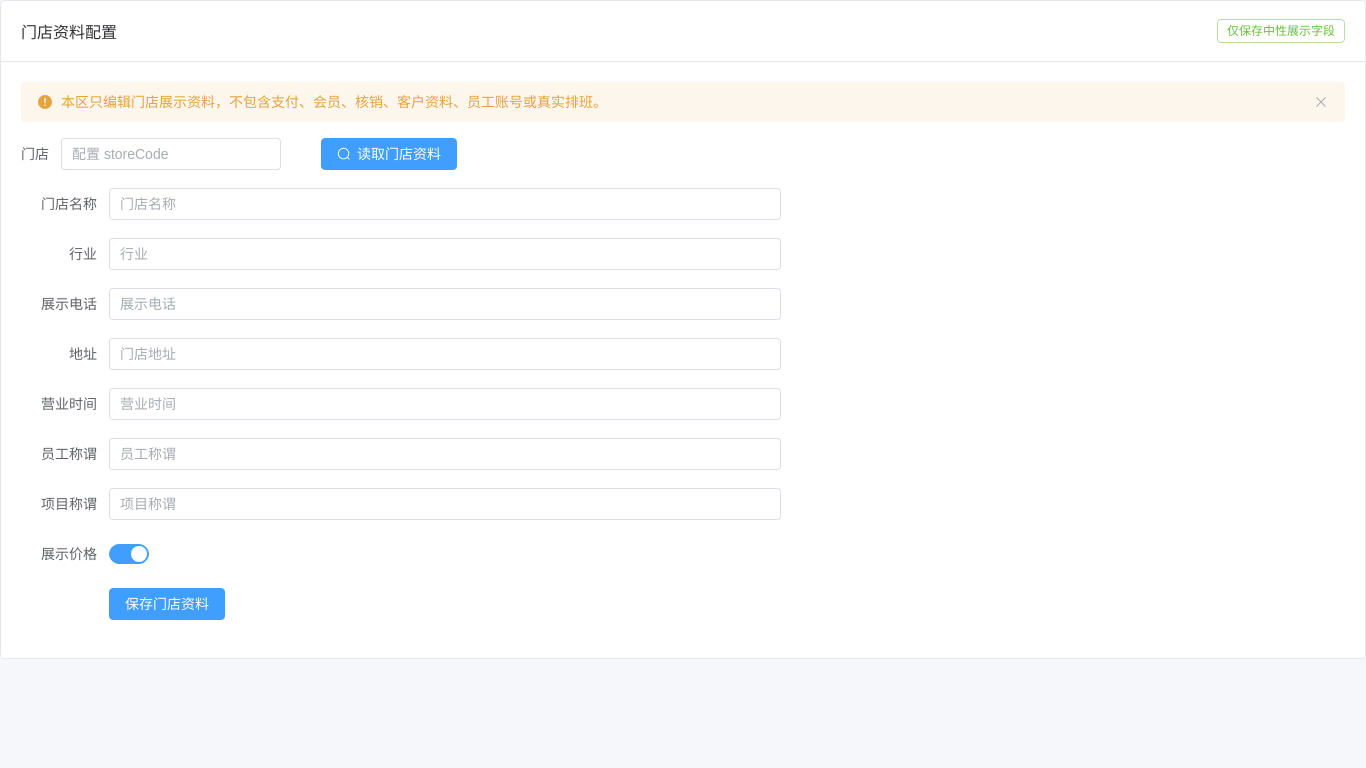
Test: StoreAppointmentStoreProfilePanel › keeps draft input when save fails
The width and height of the screenshot is (1366, 768).
Type "store-config-001" into the field with placeholder "配置 storeCode" at [171, 154], box [72,139,270,169]
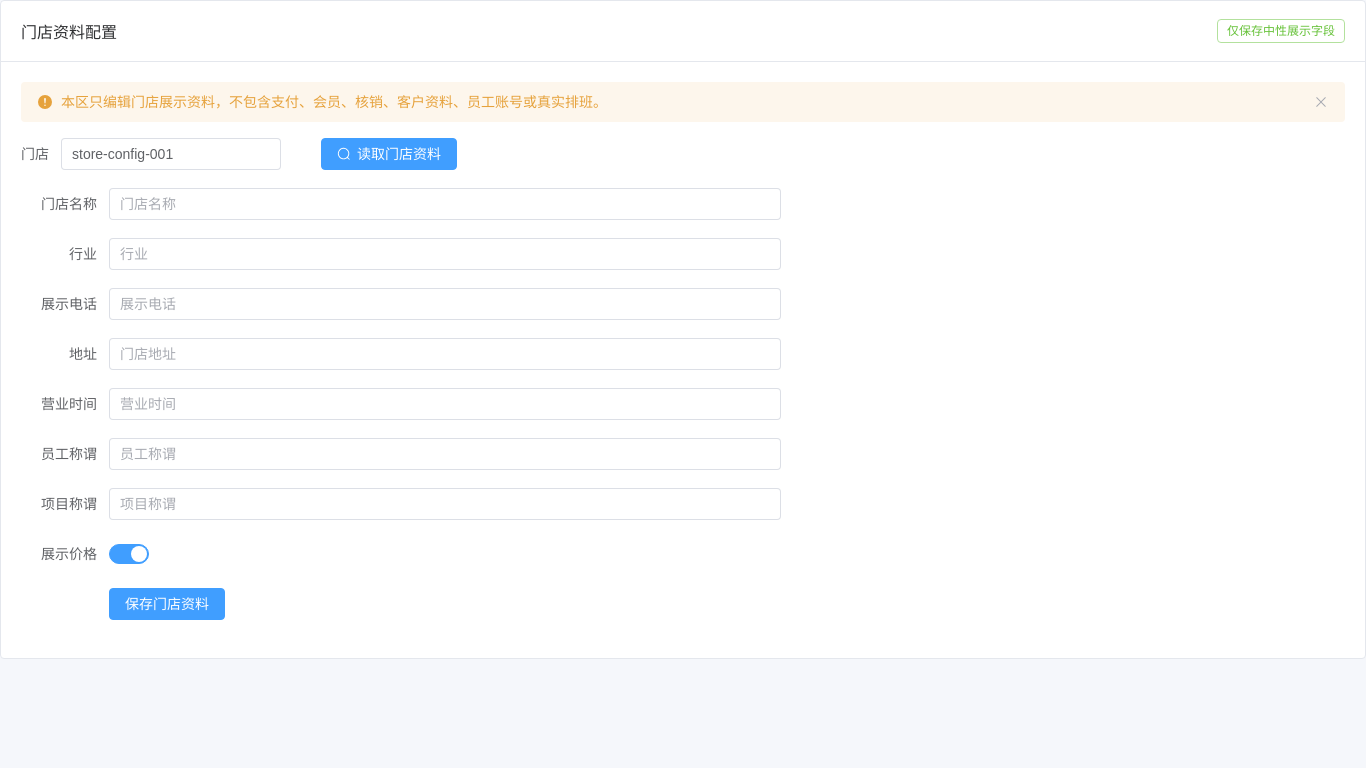
Click the button "读取门店资料" at [389, 154], box [321,138,457,170]
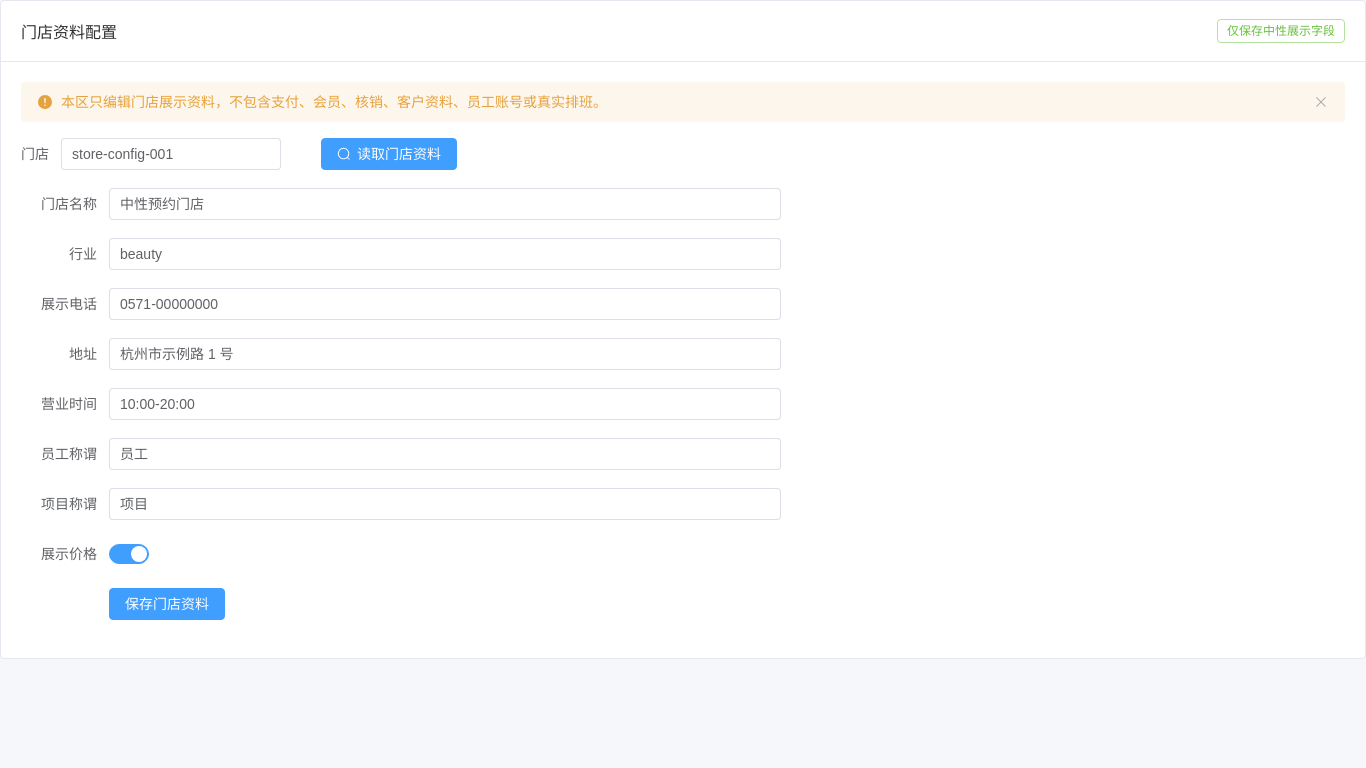
Replace the text in the field with placeholder "门店名称" with "失败后仍保留" at [445, 204], box [120,189,770,219]
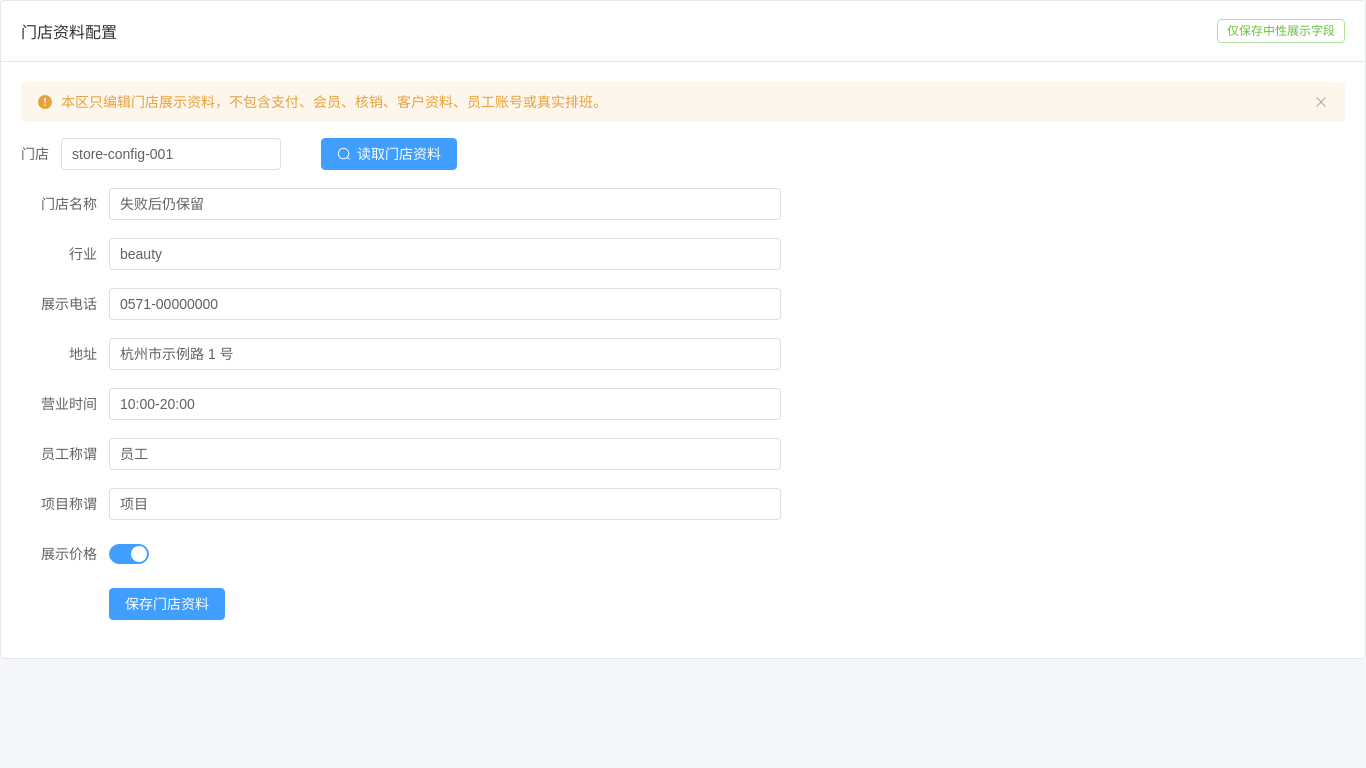
Click the button "保存门店资料" at [167, 604], box [109,588,225,620]
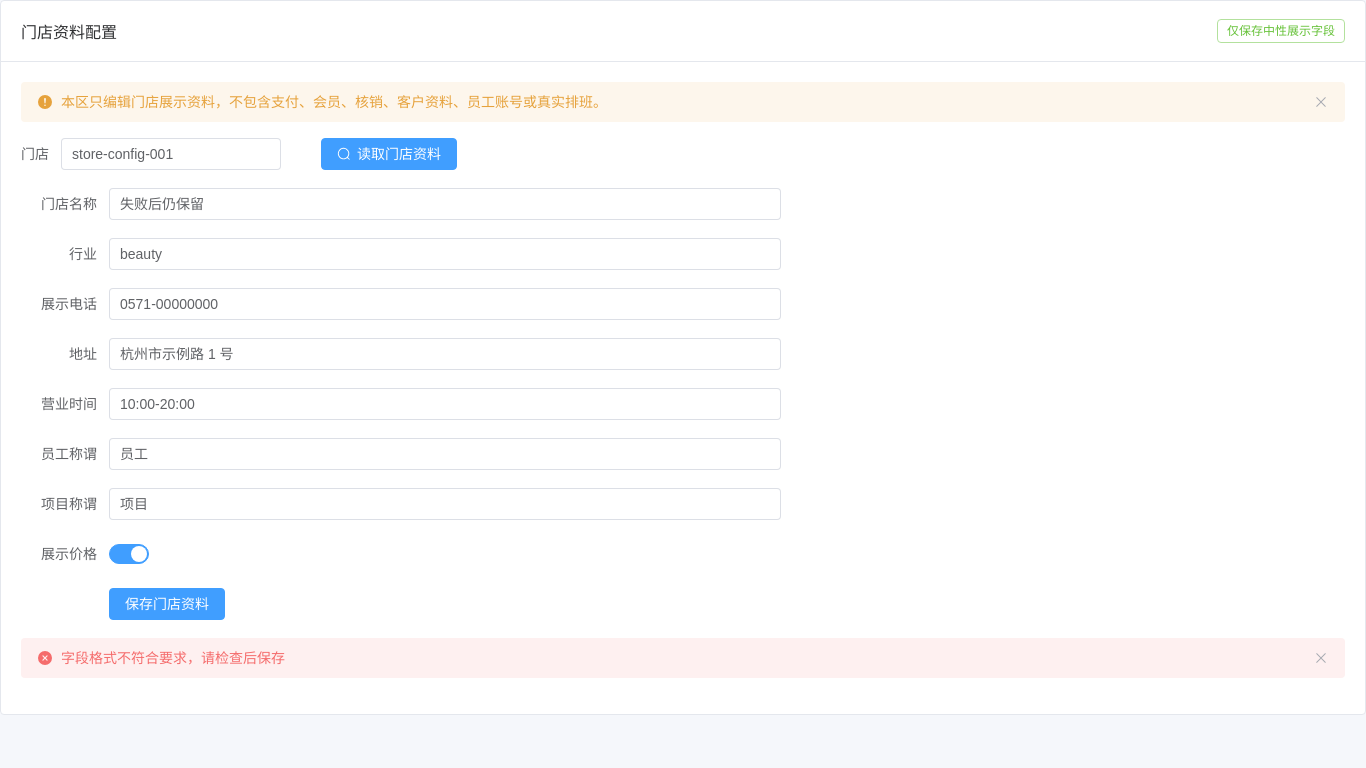
Expected: the text "字段格式不符合要求，请检查后保存" is shown, [61,646,285,670]
